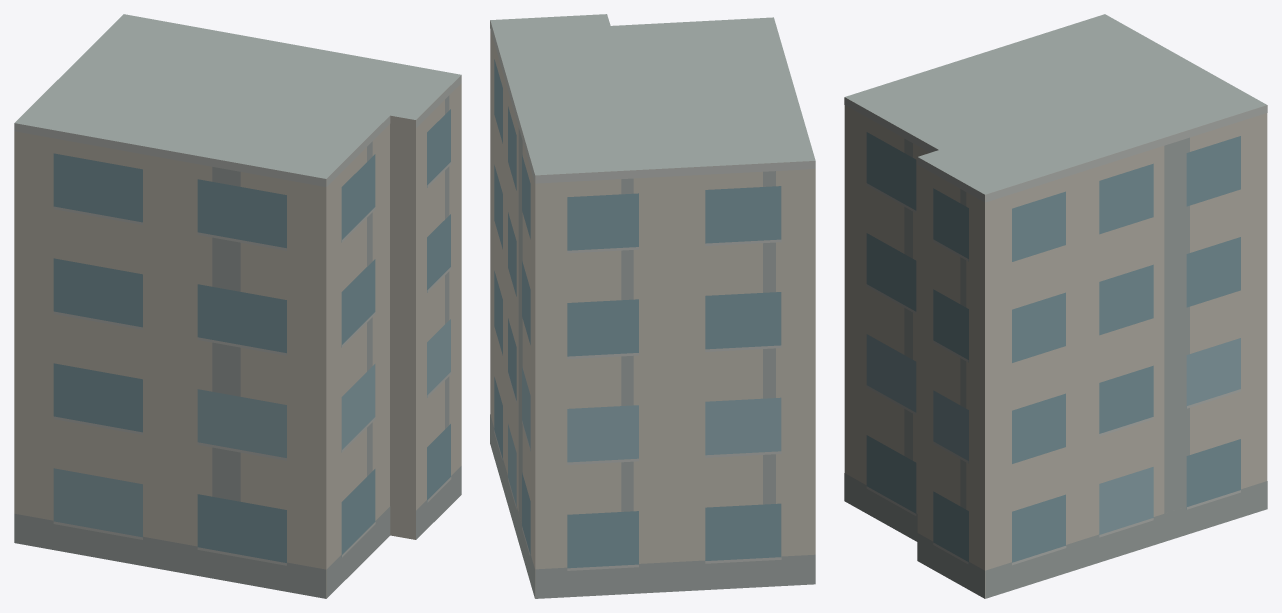
The model's file is residential-76486e7d-9163-42d5-9159-8fd98d904227.glb.
3 renders of one model, left to right at view 1: azimuth 30°, elevation 25°; view 2: azimuth 150°, elevation 25°; view 3: azimuth 270°, elevation 25°, orthographic. The views are drawn at different scales.
Parts seen in each view (by area): view 1: residential-76486e7d-9163-42d5-9159-8fd98d904227.tmp; view 2: residential-76486e7d-9163-42d5-9159-8fd98d904227.tmp; view 3: residential-76486e7d-9163-42d5-9159-8fd98d904227.tmp.
Boxes of the visible parts, x1,y1,x2,y2 form: residential-76486e7d-9163-42d5-9159-8fd98d904227.tmp: (14,14,461,598); residential-76486e7d-9163-42d5-9159-8fd98d904227.tmp: (490,14,815,598); residential-76486e7d-9163-42d5-9159-8fd98d904227.tmp: (844,14,1267,598).
Size of the model in its own units: 12 by 12.5 by 11.87.
